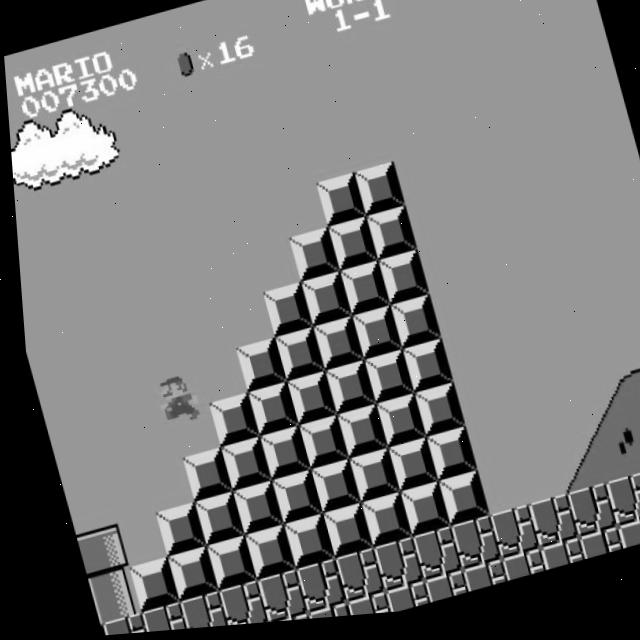11- little_mario: (142, 373, 197, 431)
14- pipe: (80, 568, 133, 624), (79, 578, 93, 625)
15- pipe_head: (69, 524, 121, 581), (67, 534, 81, 580)
17- undestructible_block: (363, 542, 416, 598), (286, 562, 338, 618), (325, 552, 377, 608), (403, 532, 455, 588), (441, 522, 493, 578), (480, 512, 532, 568), (519, 502, 571, 558), (558, 491, 610, 547), (247, 572, 299, 626), (597, 481, 640, 537), (208, 583, 259, 629), (169, 592, 220, 631), (452, 566, 499, 599), (491, 556, 538, 589), (530, 546, 577, 579), (569, 536, 616, 569), (131, 603, 181, 634), (414, 576, 460, 609), (375, 586, 421, 618), (92, 612, 142, 636), (336, 597, 382, 621), (608, 526, 640, 559), (296, 606, 342, 623), (258, 617, 303, 626), (635, 472, 640, 527), (90, 623, 101, 637)
9- hard_block: (279, 375, 332, 431), (319, 364, 371, 421), (357, 354, 409, 411), (373, 255, 425, 312), (396, 344, 448, 401), (120, 558, 172, 614), (147, 504, 199, 560), (158, 548, 210, 604), (186, 494, 238, 550), (197, 538, 249, 594), (202, 395, 254, 451), (213, 439, 265, 495), (225, 484, 277, 540), (236, 528, 288, 584), (241, 385, 293, 441), (252, 429, 304, 485), (263, 473, 315, 529), (275, 518, 327, 574), (257, 286, 309, 342), (268, 330, 320, 386), (291, 419, 343, 475), (302, 463, 354, 519), (313, 508, 365, 564), (284, 232, 336, 288), (296, 276, 348, 332), (307, 320, 359, 376), (341, 453, 393, 509), (352, 497, 404, 553), (323, 222, 375, 278), (334, 266, 386, 322), (346, 310, 398, 366), (380, 443, 432, 499), (391, 487, 443, 543), (362, 212, 414, 268), (419, 433, 471, 489), (430, 477, 482, 533), (174, 450, 226, 505), (229, 341, 281, 396), (330, 409, 382, 464), (312, 178, 364, 233), (368, 399, 420, 454), (351, 168, 403, 223), (385, 300, 437, 355), (407, 389, 459, 444)
